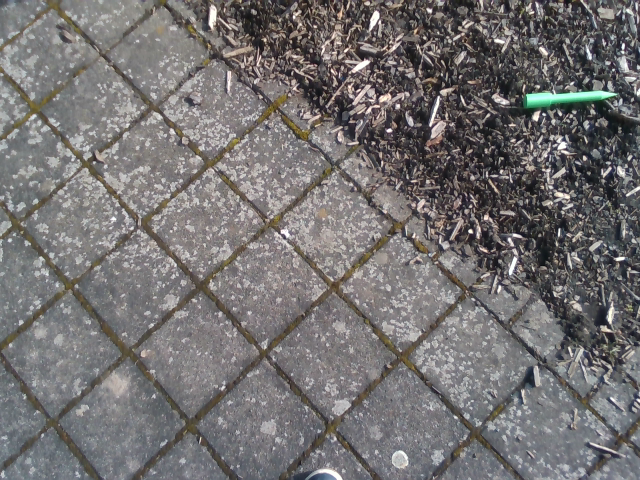Probe: (515, 80, 624, 114)
